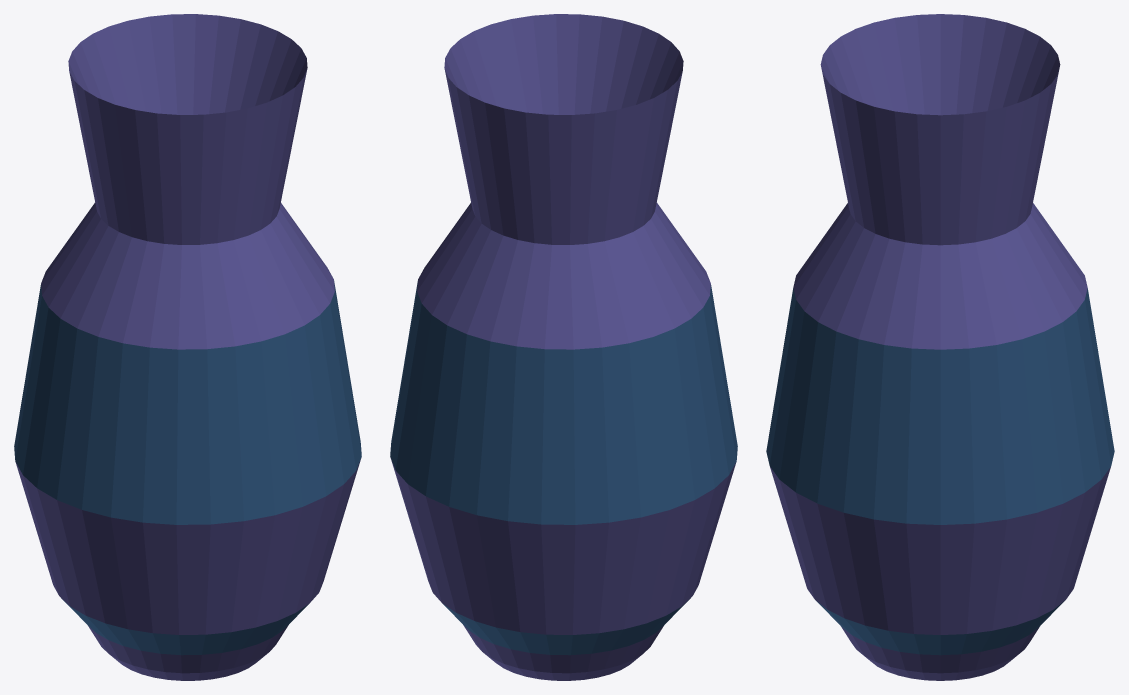
Rendered from jarron.fbx.
3 views of the same model, side by side, from view 1: azimuth 30°, elevation 25°; view 2: azimuth 150°, elevation 25°; view 3: azimuth 270°, elevation 25° (orthographic).
Visible parts, largest first — view 1: Cono; view 2: Cono; view 3: Cono.
Boxes of the visible parts, x1=… form: Cono: x1=14, y1=14, x2=361, y2=680; Cono: x1=390, y1=14, x2=737, y2=680; Cono: x1=766, y1=14, x2=1114, y2=680.
Size of the model in its own units: 102 by 188 by 102.
